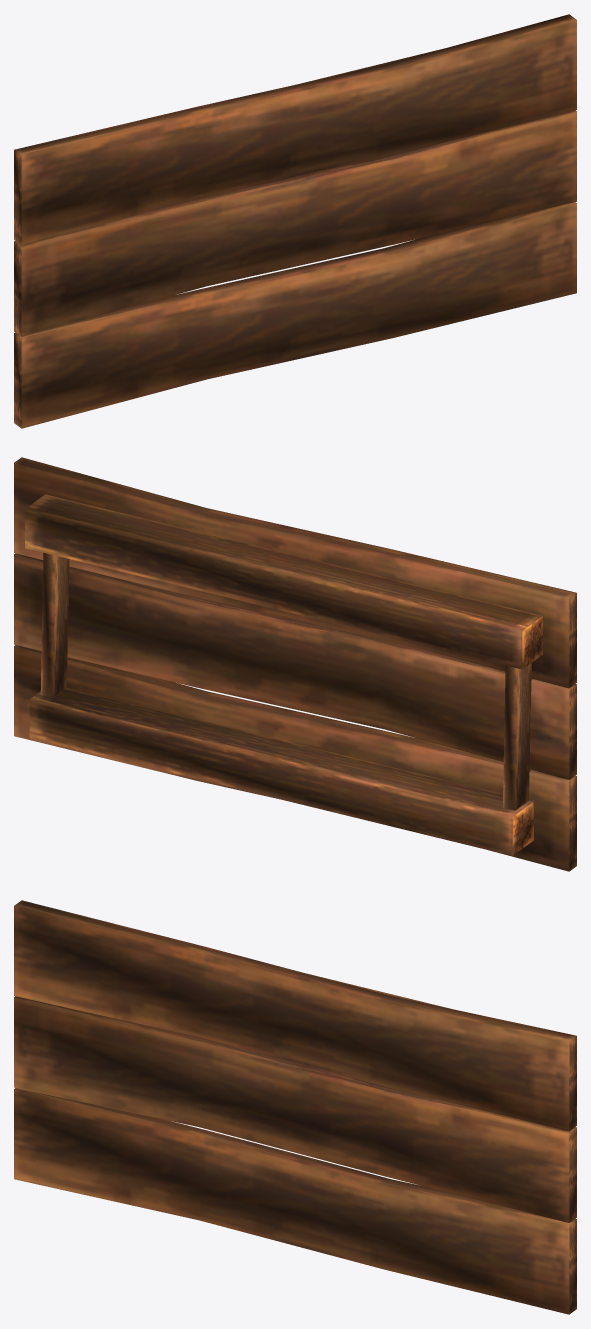
The model's file is INST_SWORDLIGHT_SCAFFTOP.fbx.
The picture shows the model from 3 angles, top to bottom: view 1: azimuth 30°, elevation 25°; view 2: azimuth 150°, elevation 25°; view 3: azimuth 330°, elevation 25°; orthographic projection.
Visible parts, largest first — view 1: INST_SWORDLIGHT_SCAFFTOP; view 2: INST_SWORDLIGHT_SCAFFTOP; view 3: INST_SWORDLIGHT_SCAFFTOP.
Boxes of the visible parts, bbox=[...] form: INST_SWORDLIGHT_SCAFFTOP: bbox=[14, 14, 576, 428]; INST_SWORDLIGHT_SCAFFTOP: bbox=[14, 457, 576, 871]; INST_SWORDLIGHT_SCAFFTOP: bbox=[14, 900, 576, 1314].
Size of the model in its own units: 23821 by 11204 by 2138.
2 materials, 2 textured.
